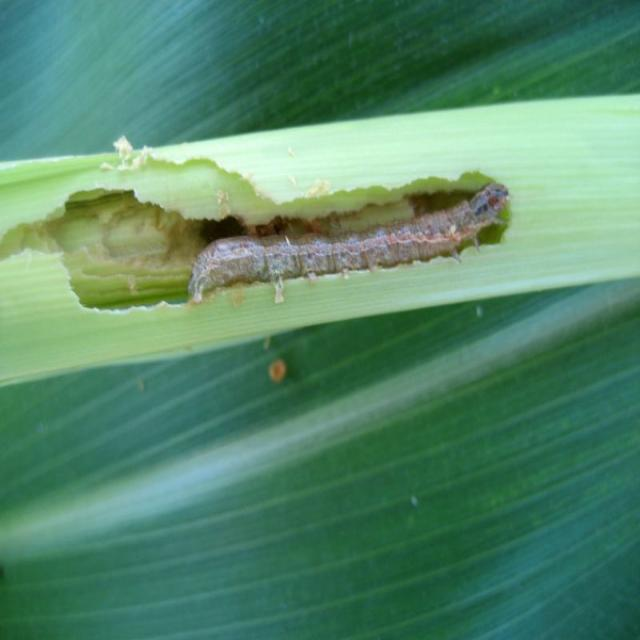yellow-stem-borer-larva: (135, 137, 533, 321)
